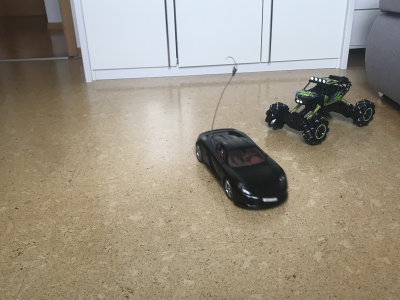remote control car: (263, 71, 377, 147)
